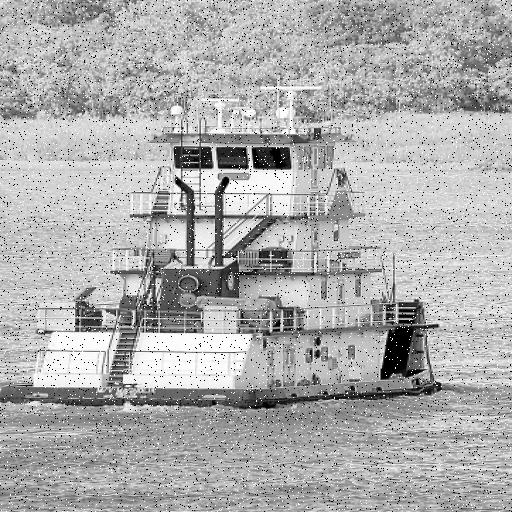tugboat: (1, 73, 451, 420)
